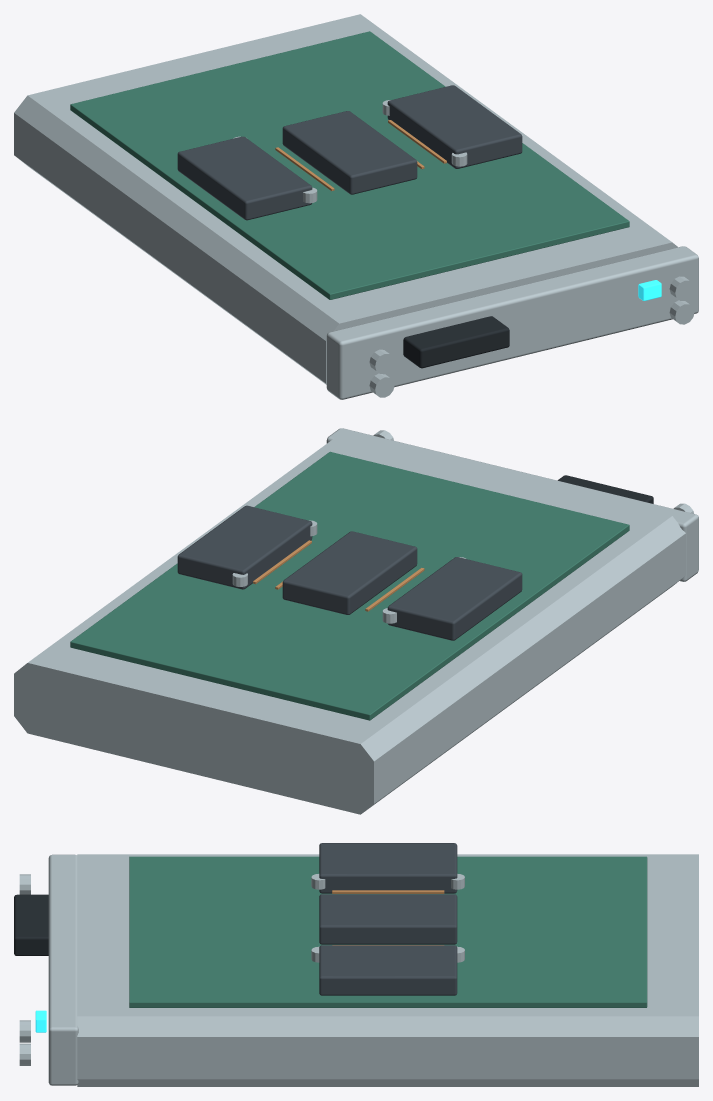
File: data-centre-infiltration-kit-data-centre-infiltration--5bcc1a5d__29242.glb
3 views of the same model, one above another, from view 1: azimuth 30°, elevation 25°; view 2: azimuth 150°, elevation 25°; view 3: azimuth 270°, elevation 25° (orthographic).
Visible parts, largest first — view 1: data-centre-infiltration-kit-server-chassis; view 2: data-centre-infiltration-kit-server-chassis; view 3: data-centre-infiltration-kit-server-chassis.
Part boxes in pixels (box(x1,y1,x2,y2)): data-centre-infiltration-kit-server-chassis: box(14, 14, 698, 399); data-centre-infiltration-kit-server-chassis: box(14, 428, 698, 814); data-centre-infiltration-kit-server-chassis: box(14, 843, 698, 1086).
Size of the model in its own units: 0.48 by 0.123 by 0.7935.
